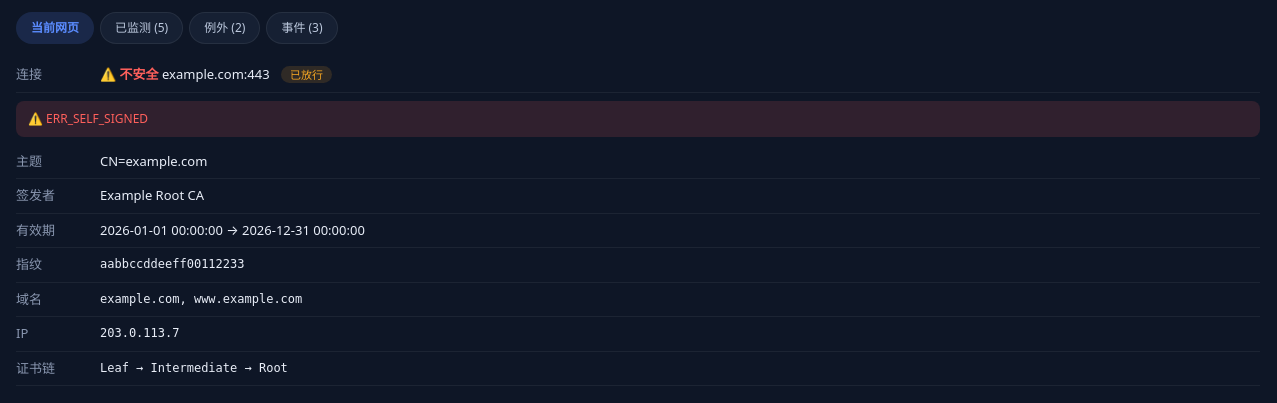
Test: 已监测页签：days_left 渲染分支（F-66 契约） › 正数 → "N 天" 绿；≤7 天边界转黄；0 天也是黄
Click the button "已监测 (5)" at [142, 28], box [100,12,183,44]
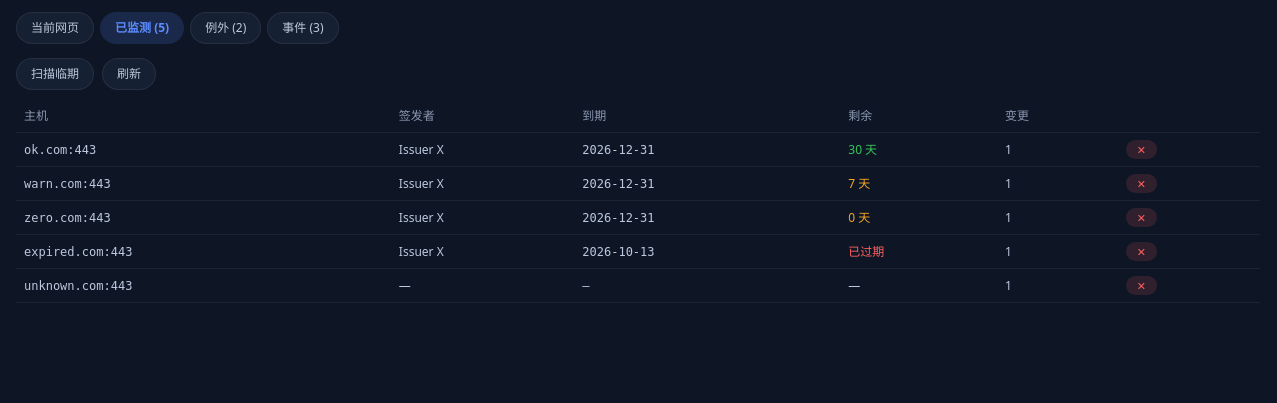
Expected: the text "30 天" is shown, [848,140,877,158]
Expected: the text "7 天" is shown, [848,174,870,192]
Expected: the text "0 天" is shown, [848,208,870,226]
